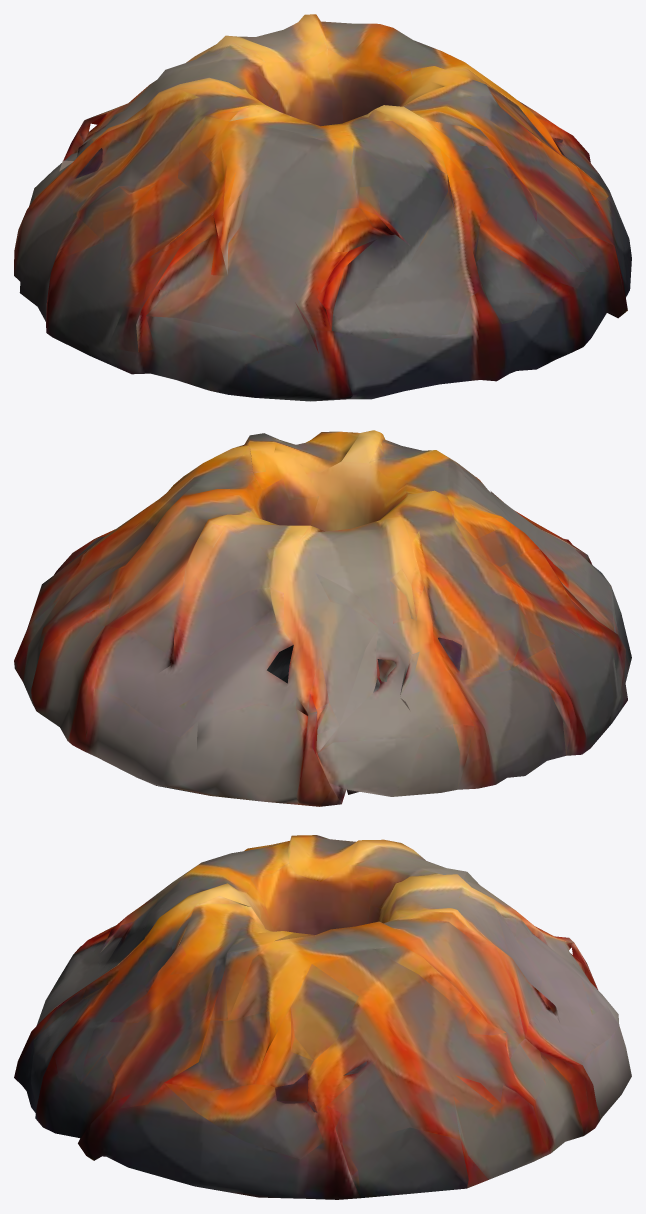
Rendered from volcano.glb.
The picture shows the model from 3 angles, top to bottom: view 1: azimuth 30°, elevation 25°; view 2: azimuth 150°, elevation 25°; view 3: azimuth 270°, elevation 25°; orthographic projection. The views are drawn at different scales.
Visible parts, largest first — view 1: world; view 2: world; view 3: world.
Boxes of the visible parts, x1,y1,x2,y2 form: world: [14, 14, 631, 401]; world: [14, 430, 631, 806]; world: [14, 835, 631, 1199].
Size of the model in its own units: 0.2984 by 0.1069 by 0.3.
Materials: 1 (1 with a texture image).
